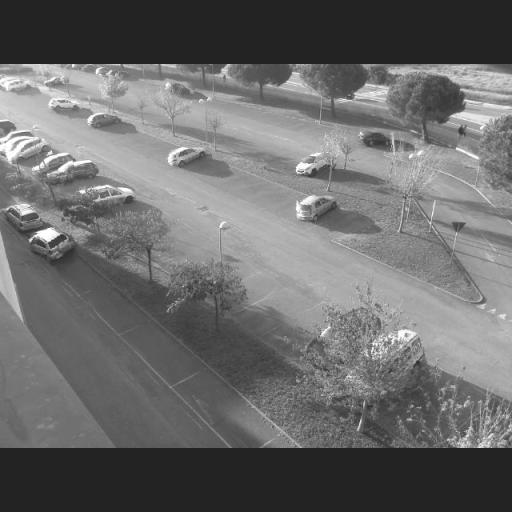busy: (326, 331, 429, 394), (294, 304, 382, 370), (29, 225, 77, 265), (76, 184, 135, 210), (294, 193, 341, 223), (163, 145, 213, 169), (48, 162, 96, 186), (6, 138, 52, 162), (6, 206, 48, 232), (289, 155, 332, 178), (34, 152, 74, 174), (356, 129, 394, 149), (86, 109, 120, 129), (162, 80, 196, 99), (48, 98, 82, 114), (2, 78, 32, 92)
free: (403, 389, 466, 430), (210, 398, 257, 430), (247, 298, 291, 328), (234, 276, 278, 303), (287, 312, 326, 338), (88, 295, 130, 318), (141, 336, 177, 362), (58, 261, 92, 288), (179, 252, 215, 272), (223, 256, 254, 278), (327, 212, 361, 231), (260, 186, 288, 204), (274, 200, 300, 218), (171, 238, 200, 253), (74, 176, 104, 190), (236, 182, 260, 197), (160, 224, 184, 238), (142, 141, 166, 155), (222, 171, 245, 184), (276, 116, 302, 126), (201, 166, 226, 176), (260, 110, 280, 122), (125, 132, 145, 144), (16, 87, 40, 97), (240, 105, 261, 116), (294, 122, 319, 131), (30, 94, 52, 103), (69, 110, 88, 120), (221, 102, 240, 112)
